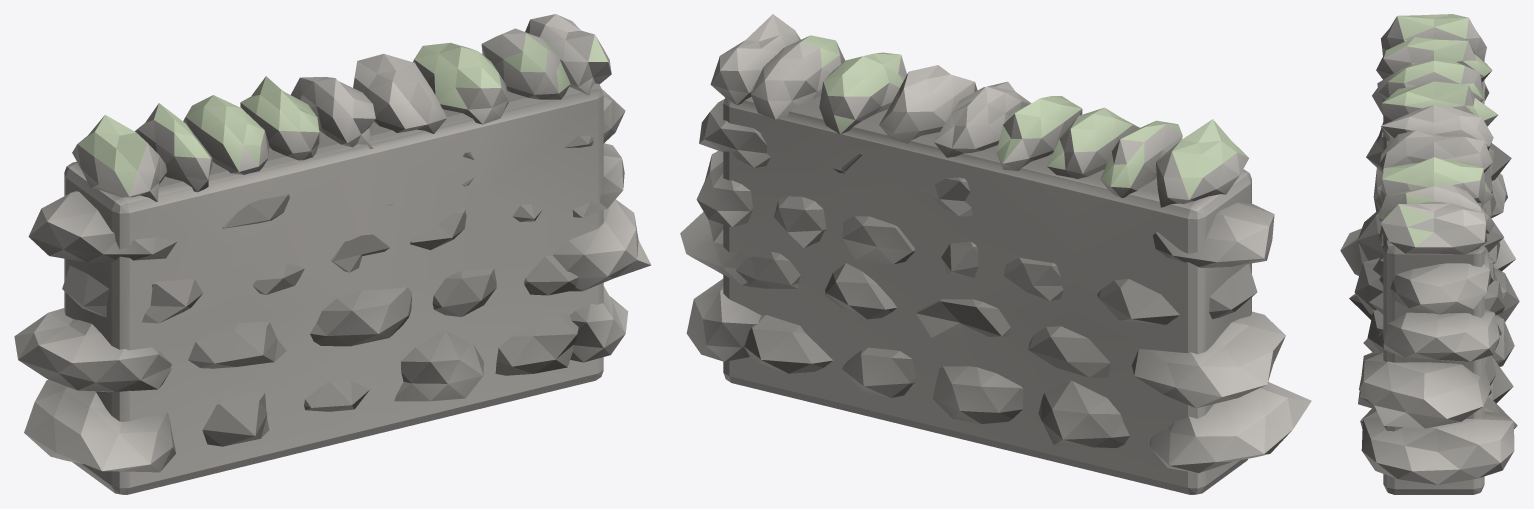
Rendered from stone_wall.glb.
3 renders of one model, left to right at view 1: azimuth 30°, elevation 25°; view 2: azimuth 150°, elevation 25°; view 3: azimuth 270°, elevation 25°, orthographic. The views are drawn at different scales.
Parts seen in each view (by area): view 1: cap; view 2: cap; view 3: cap.
Part boxes in pixels (x1,y1,x2,y2): cap: (14,14,651,494); cap: (680,14,1311,494); cap: (1340,14,1519,494).
Size of the model in its own units: 2.66 by 1.44 by 0.797.
